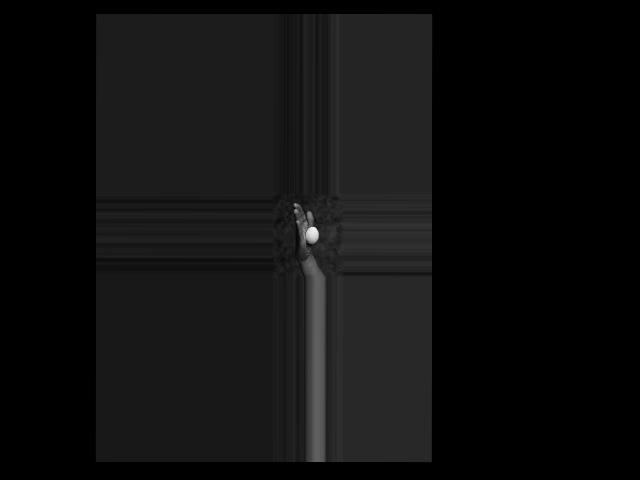egg: (305, 227, 318, 244)
